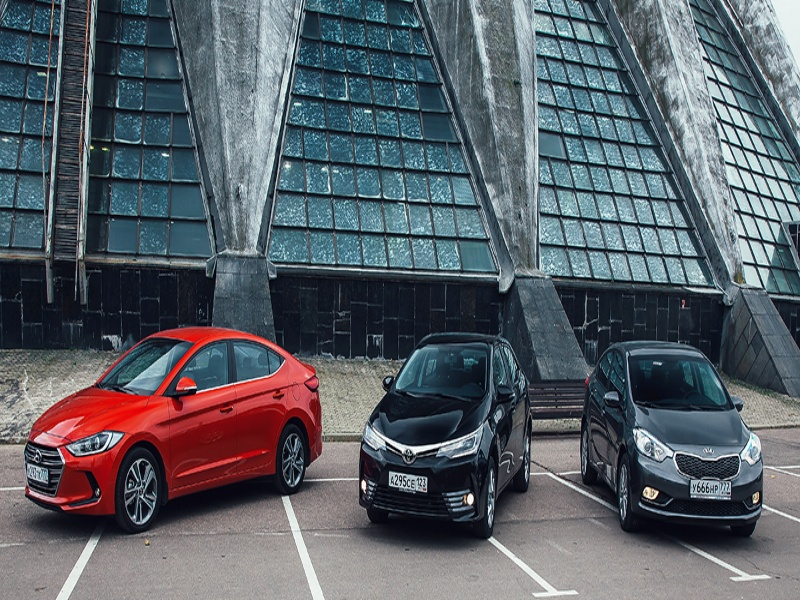car: (24, 327, 324, 532), (579, 339, 764, 537), (358, 332, 533, 541)
plate: (386, 470, 428, 494), (690, 479, 731, 501), (26, 463, 48, 485)
